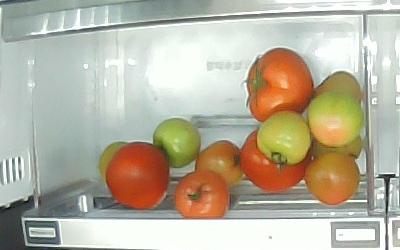tomato: (245, 48, 313, 122), (239, 128, 307, 192), (106, 142, 169, 210), (257, 110, 311, 165), (308, 93, 364, 146), (305, 152, 360, 205), (175, 171, 228, 219), (153, 118, 201, 169), (195, 140, 242, 188), (314, 71, 363, 102), (310, 132, 363, 160)
